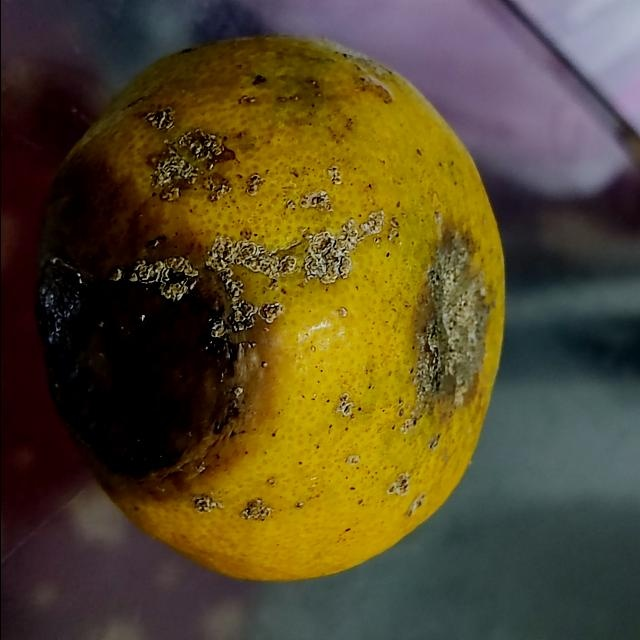agrume: (35, 28, 509, 584)
